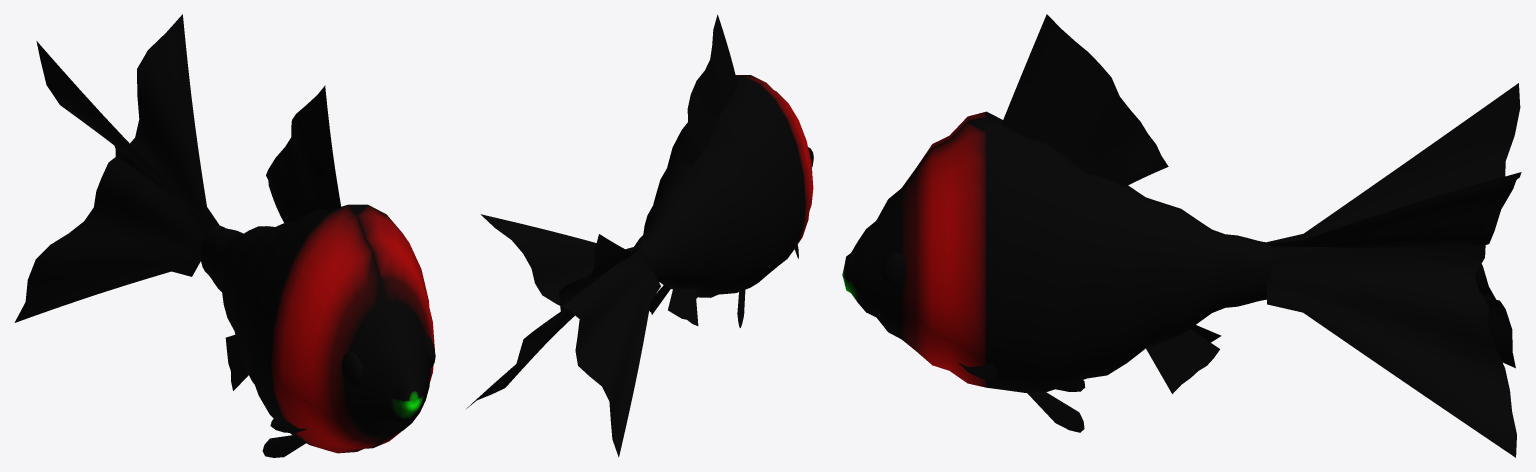
Rendered from goldfish-ryukin.glb.
3 views of the same model, side by side, from view 1: azimuth 30°, elevation 25°; view 2: azimuth 150°, elevation 25°; view 3: azimuth 270°, elevation 25° (orthographic). The views are drawn at different scales.
Parts seen in each view (by area): view 1: gfryukin_body, gfryukin_caudalR, gfryukin_dorsal, gfryukin_caudalL, gfryukin_analR, gfryukin_pelvicL, gfryukin_eyeL; view 2: gfryukin_body, gfryukin_caudalR, gfryukin_dorsal, gfryukin_caudalL, gfryukin_analR; view 3: gfryukin_body, gfryukin_caudalL, gfryukin_dorsal, gfryukin_caudalR, gfryukin_analL, gfryukin_pelvicR, gfryukin_eyeR.
Part boxes in pixels (box(x1,y1,x2,y2)): gfryukin_body: box(200, 204, 434, 453); gfryukin_caudalR: box(14, 14, 219, 322); gfryukin_dorsal: box(266, 85, 340, 222); gfryukin_caudalL: box(36, 41, 215, 226); gfryukin_analR: box(225, 335, 248, 390); gfryukin_pelvicL: box(262, 435, 305, 457); gfryukin_eyeL: box(341, 352, 363, 386); gfryukin_body: box(634, 75, 813, 297); gfryukin_caudalR: box(481, 214, 660, 457); gfryukin_dorsal: box(673, 14, 738, 165); gfryukin_caudalL: box(466, 234, 641, 408); gfryukin_analR: box(668, 287, 698, 325); gfryukin_body: box(842, 111, 1271, 392); gfryukin_caudalL: box(1267, 83, 1520, 457); gfryukin_dorsal: box(1001, 14, 1168, 187); gfryukin_caudalR: box(1267, 172, 1521, 368); gfryukin_analL: box(1146, 329, 1219, 393); gfryukin_pelvicR: box(1027, 392, 1084, 432); gfryukin_eyeR: box(881, 253, 906, 289).
Size of the model in its own units: 0.5633 by 1.04 by 1.58.
